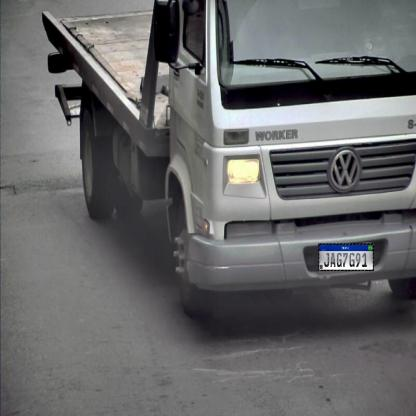PlacaM: (318, 243, 374, 271)
